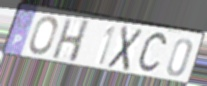0: (165, 37, 194, 78)
1: (98, 26, 117, 66)
C: (135, 30, 170, 76)
H: (50, 17, 92, 64)
O: (28, 15, 59, 56)
X: (105, 25, 145, 74)
